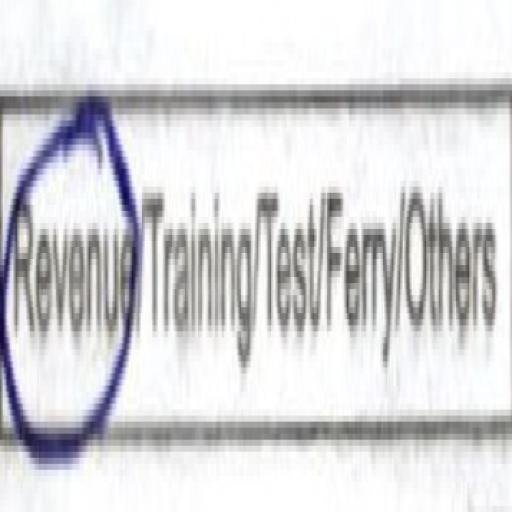check: (0, 48, 145, 488)
